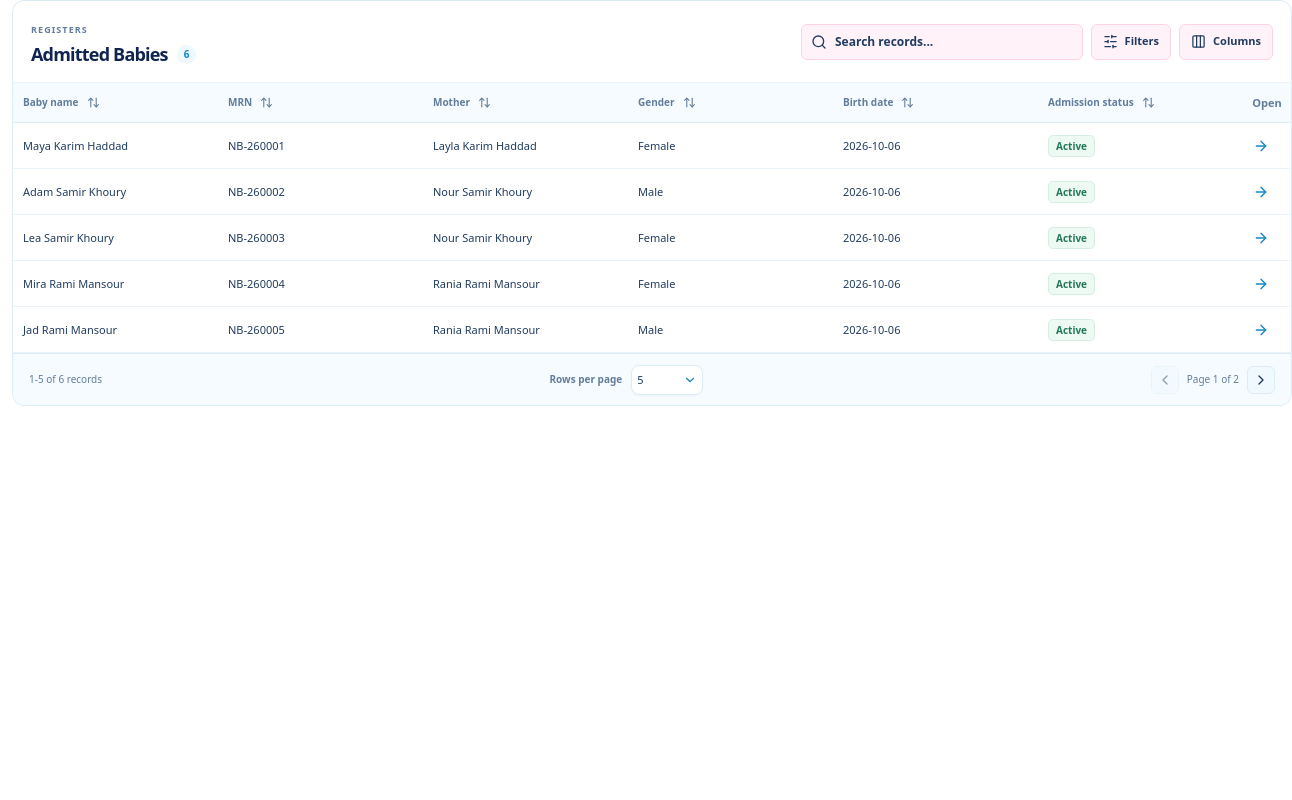
Test: toggles filters and lets users choose and restore columns
Click the button "Filters" at [1131, 42], box [1091,24,1171,60]
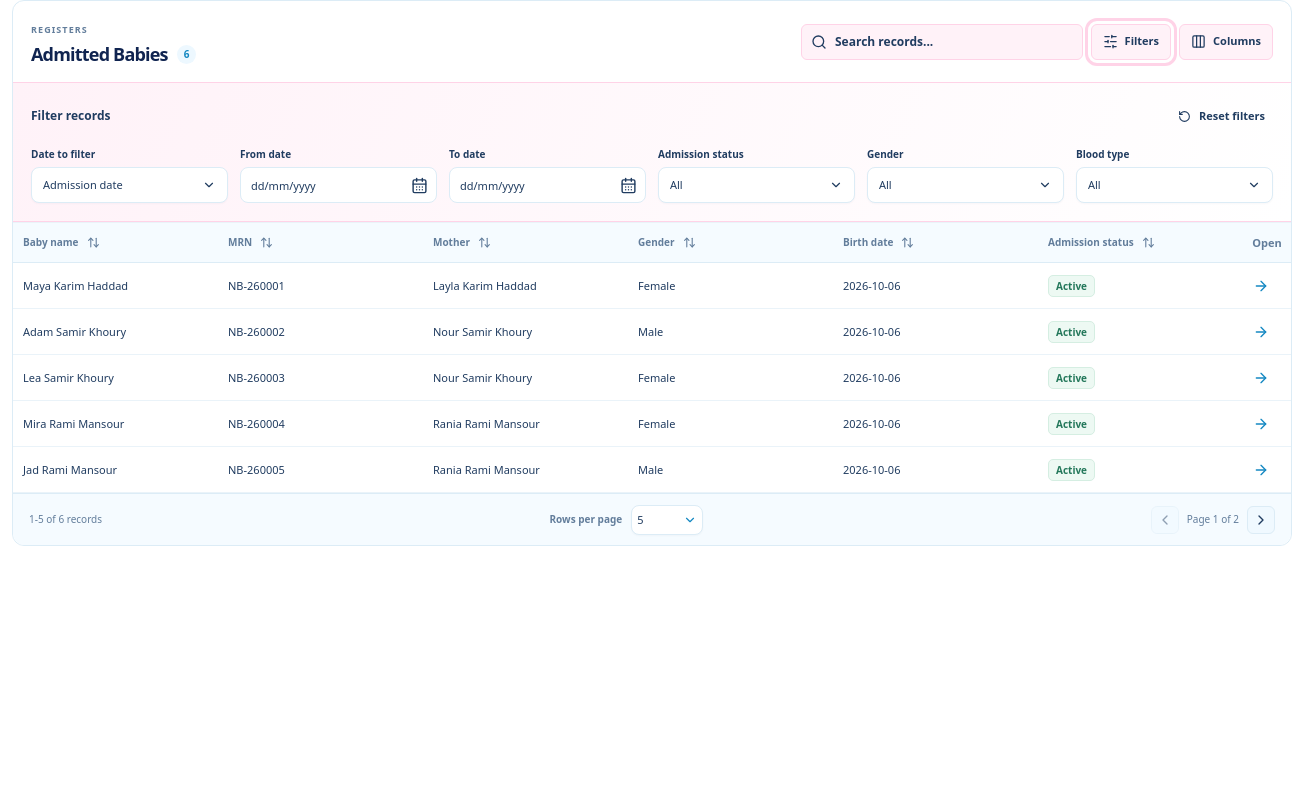
Now the element named "Register filters" is shown, box [13,82,1291,222]
Click the button "Filters" at [1131, 42], box [1091,24,1171,60]
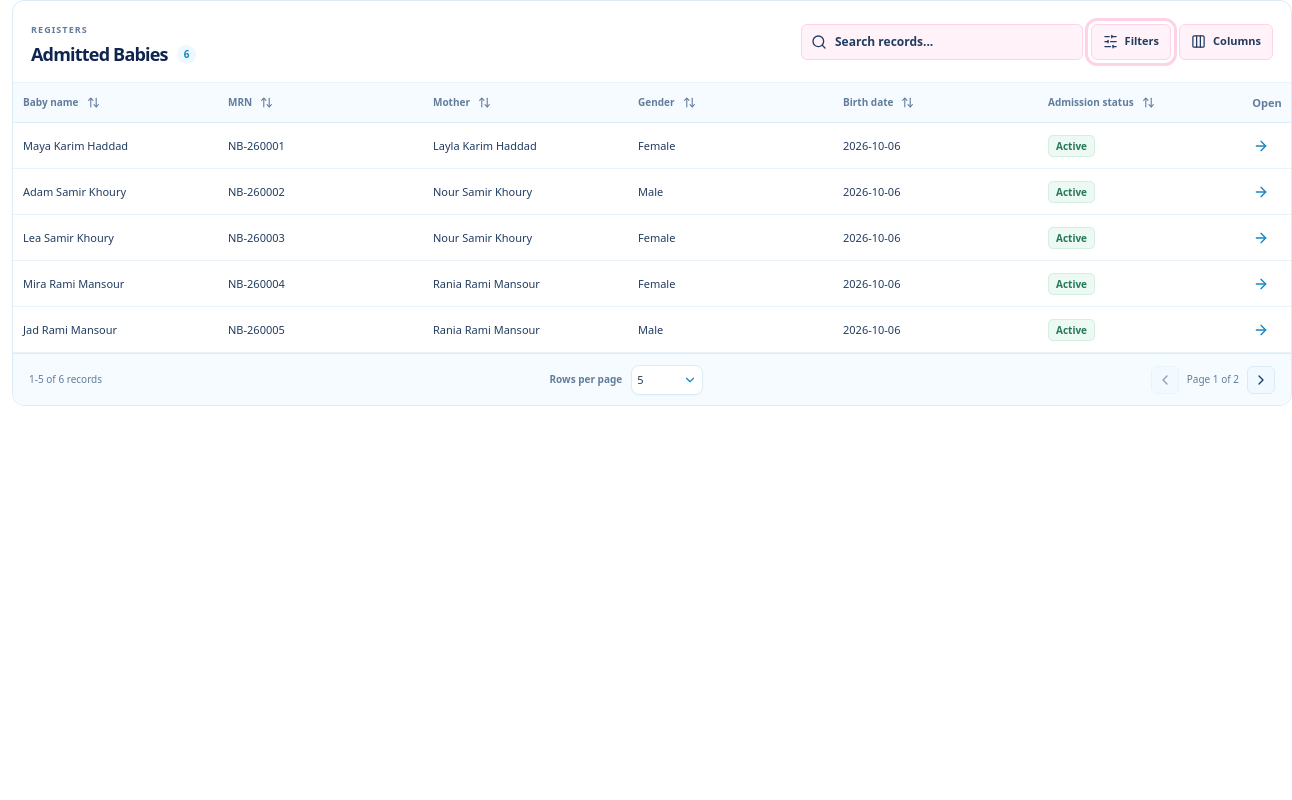
Now the text "Blood type" is gone
Click the button "Columns" at [1226, 42], box [1179,24,1273,60]
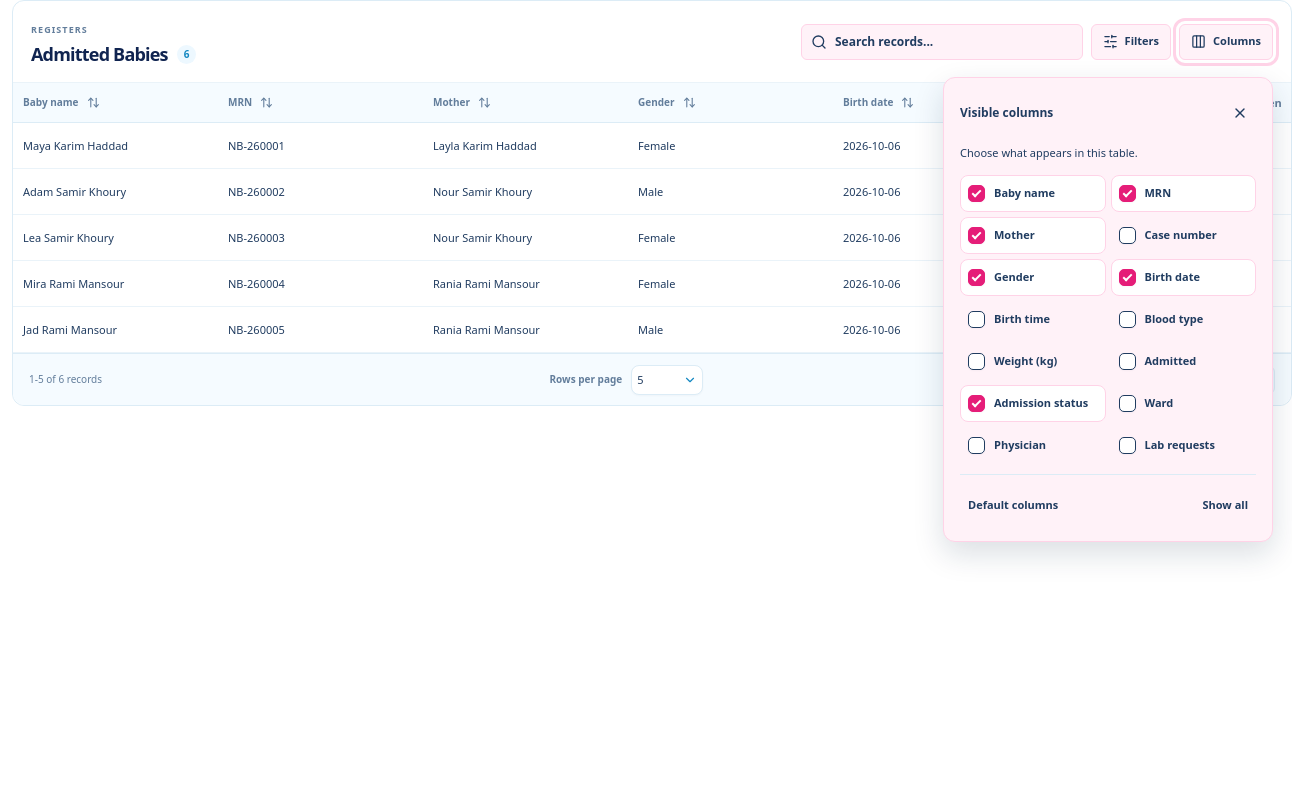
Click the checkbox labelled "Blood type" at [1127, 319], box [1118,310,1136,328]
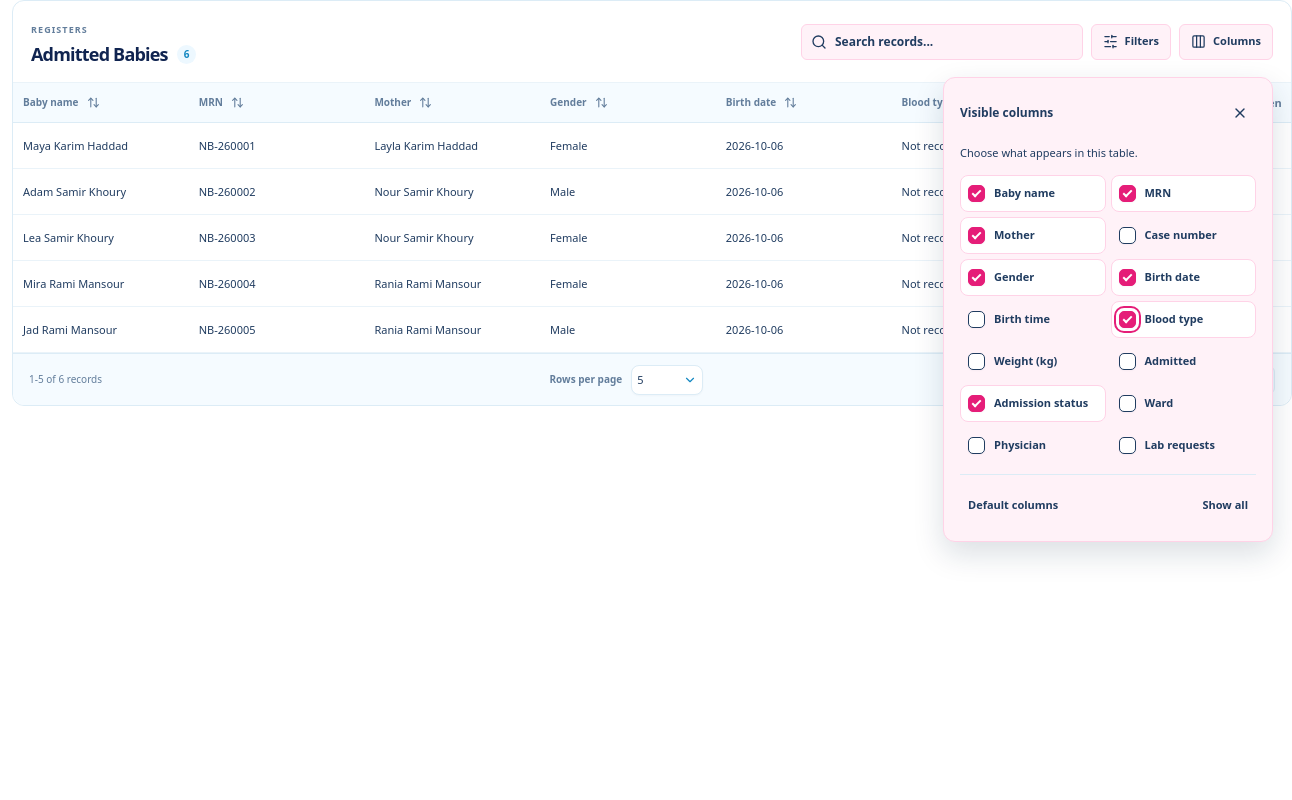
Now the column heading "Blood type" is shown, box [892,83,1067,123]
Click the checkbox labelled "Mother" at [976, 235], box [968,226,985,244]
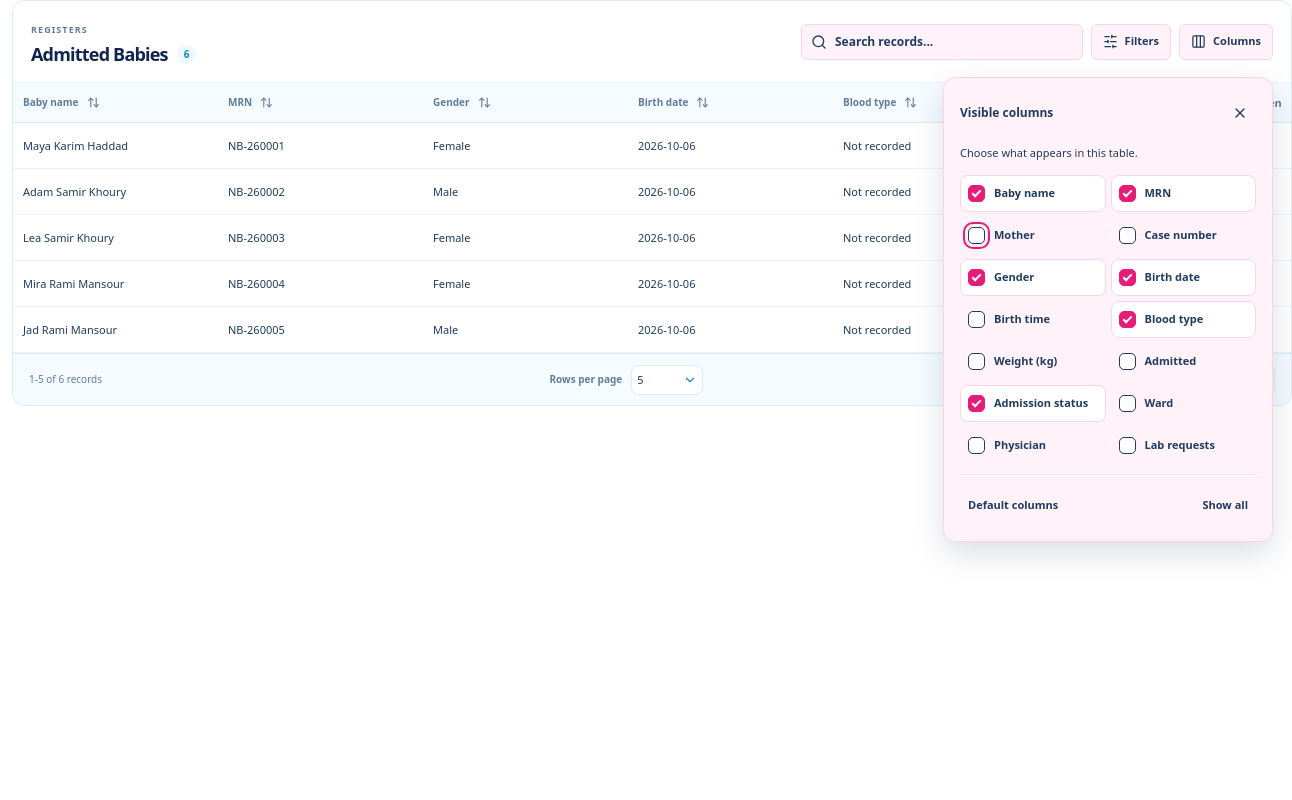
Click the button "Default columns" at [1013, 506], box [960,486,1066,524]
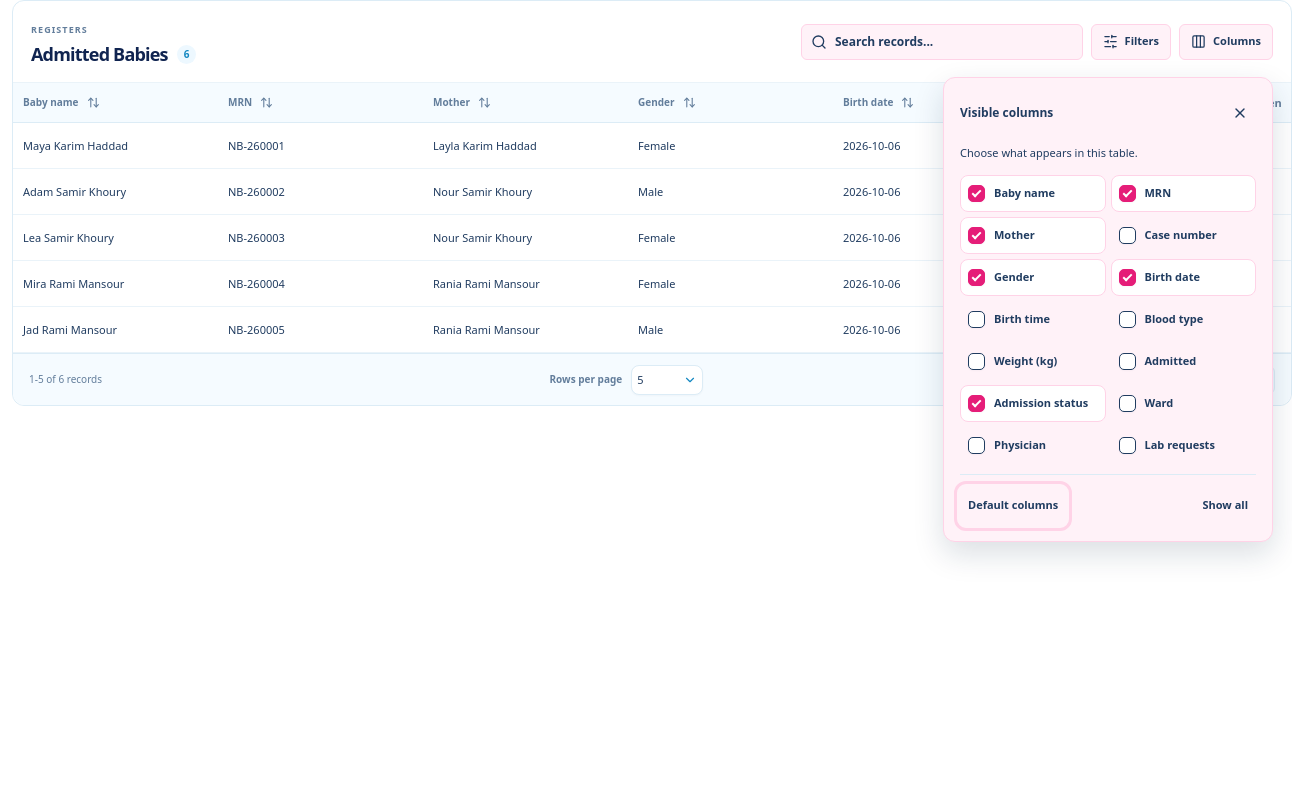
Now the column heading "Mother" is shown, box [423,83,628,123]
